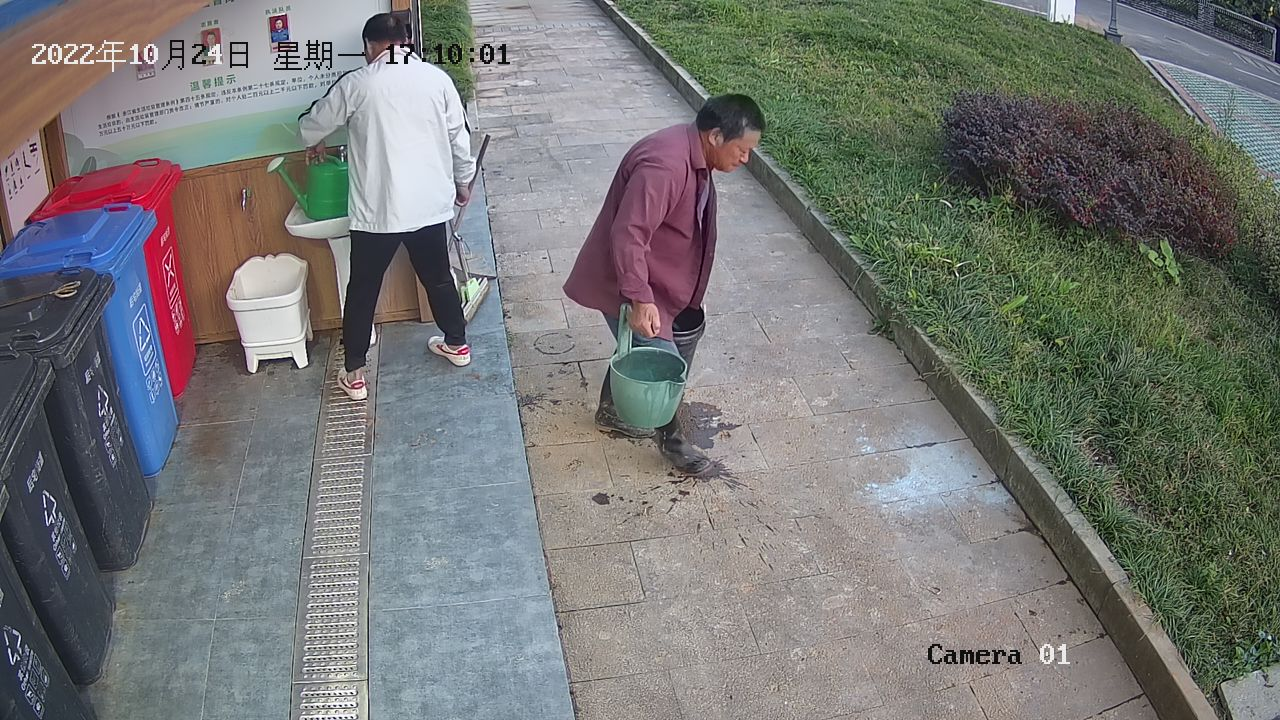person: (558, 90, 780, 483), (294, 9, 482, 408)
youtong: (601, 299, 694, 436)
